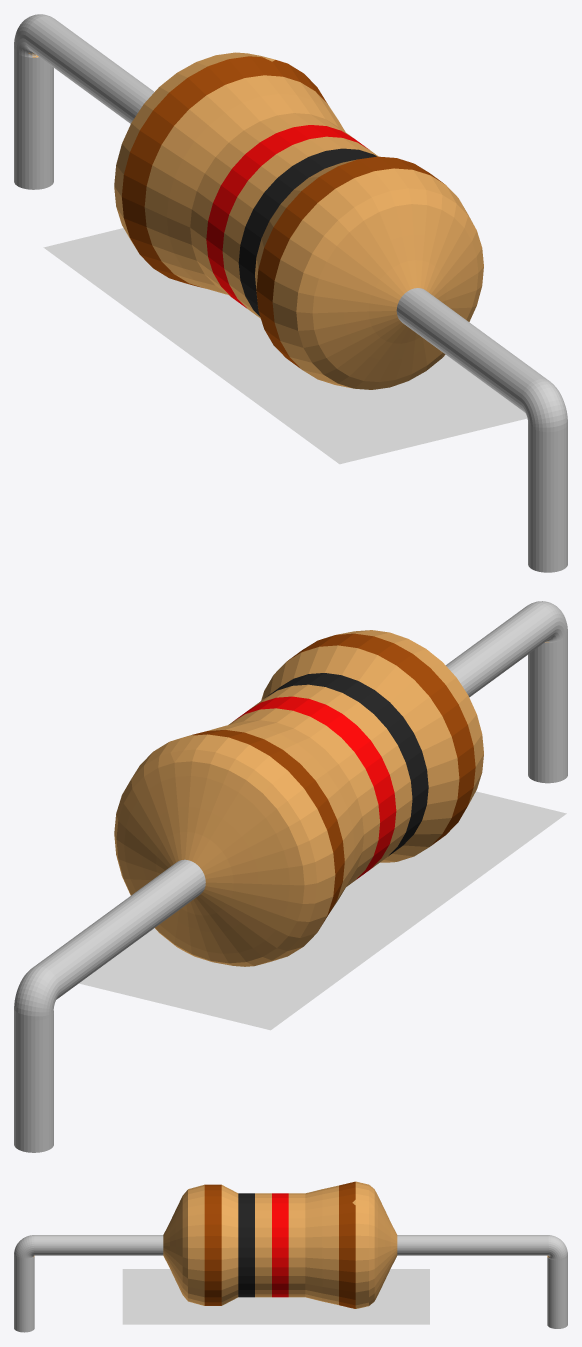
The model's file is R1_tan_1.gltf.
The picture shows the model from 3 angles, top to bottom: view 1: azimuth 30°, elevation 25°; view 2: azimuth 150°, elevation 25°; view 3: azimuth 270°, elevation 25°; orthographic projection. The views are drawn at different scales.
Visible parts, largest first — view 1: R1_tan_1, R1_tan_1_plane; view 2: R1_tan_1, R1_tan_1_plane; view 3: R1_tan_1, R1_tan_1_plane.
Part boxes in pixels (x1,y1,x2,y2): R1_tan_1: (14,14,567,572); R1_tan_1_plane: (43,228,527,464); R1_tan_1: (14,601,567,1152); R1_tan_1_plane: (79,791,566,1030); R1_tan_1: (14,1181,567,1332); R1_tan_1_plane: (122,1269,429,1324).
Size of the model in its own units: 0.0161 by 0.0189 by 0.0676.
